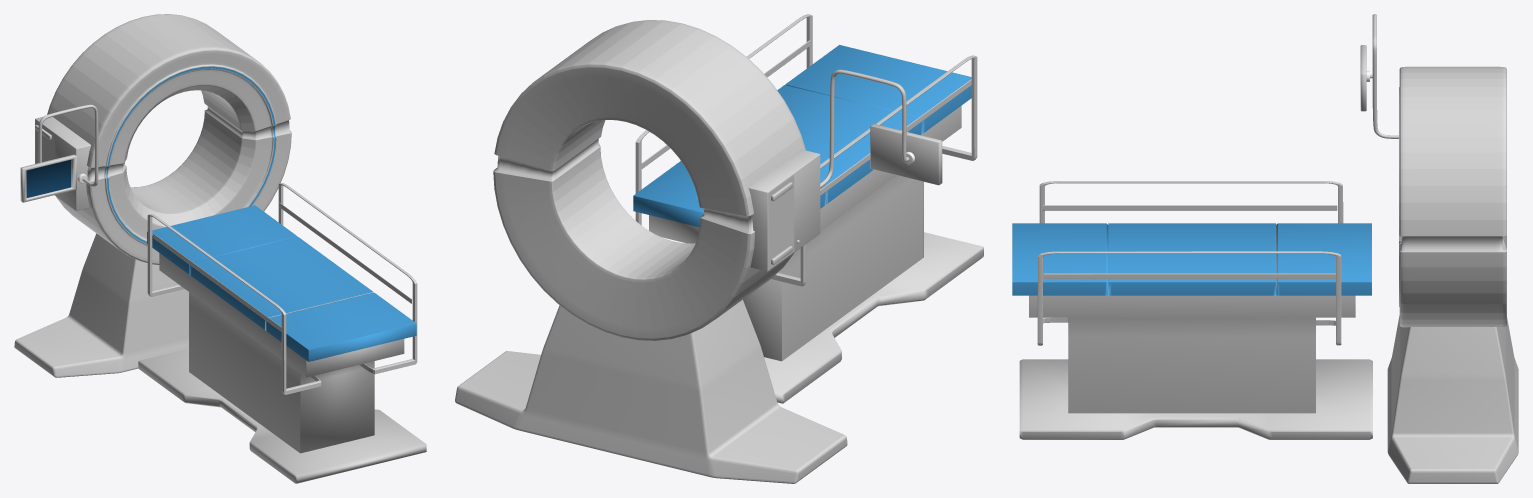
The model's file is mri_scan.glb.
3 views of the same model, side by side, from view 1: azimuth 30°, elevation 25°; view 2: azimuth 150°, elevation 25°; view 3: azimuth 270°, elevation 25° (orthographic). The views are drawn at different scales.
Parts seen in each view (by area): view 1: Cylinder_3, Plane.004_4, Plane.005_10, Plane.002_8, Plane.009_11, Plane.003_9; view 2: Cylinder_3, Plane.004_4, Plane.005_10, Plane.002_8, Plane.003_9; view 3: Plane.004_4, Cylinder_3, Plane.005_10, Plane.003_9, Plane.009_11, Plane.002_8.
Boxes of the visible parts, x1,y1,x2,y2 form: Cylinder_3: (14,14,291,377); Plane.004_4: (138,205,426,483); Plane.005_10: (147,183,417,394); Plane.002_8: (38,104,98,186); Plane.009_11: (279,202,411,303); Plane.003_9: (153,233,281,331); Cylinder_3: (455,20,942,483); Plane.004_4: (633,45,983,403); Plane.005_10: (635,14,977,286); Plane.002_8: (820,69,909,187); Plane.003_9: (820,79,971,195); Plane.004_4: (1012,223,1372,439); Cylinder_3: (1360,45,1518,483); Plane.005_10: (1037,181,1343,345); Plane.003_9: (1042,205,1337,210); Plane.009_11: (1043,273,1335,278); Plane.002_8: (1370,14,1398,138).
Size of the model in its own units: 3.46 by 3.09 by 4.25.
